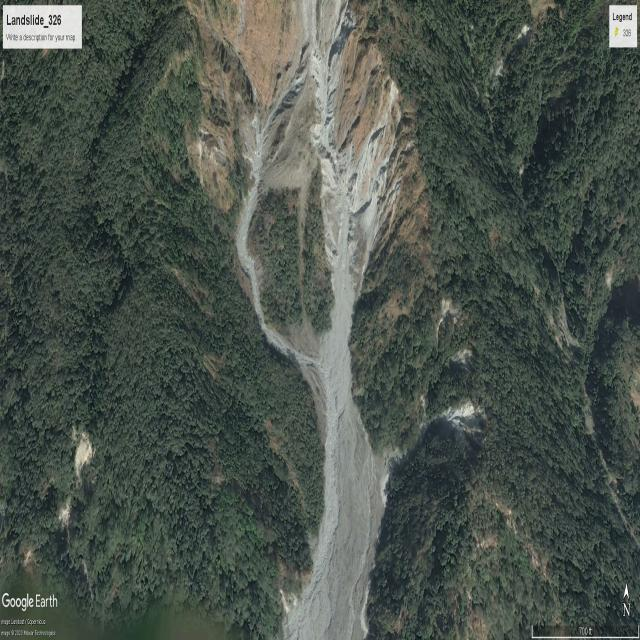Landslide: (236, 56, 395, 640)
